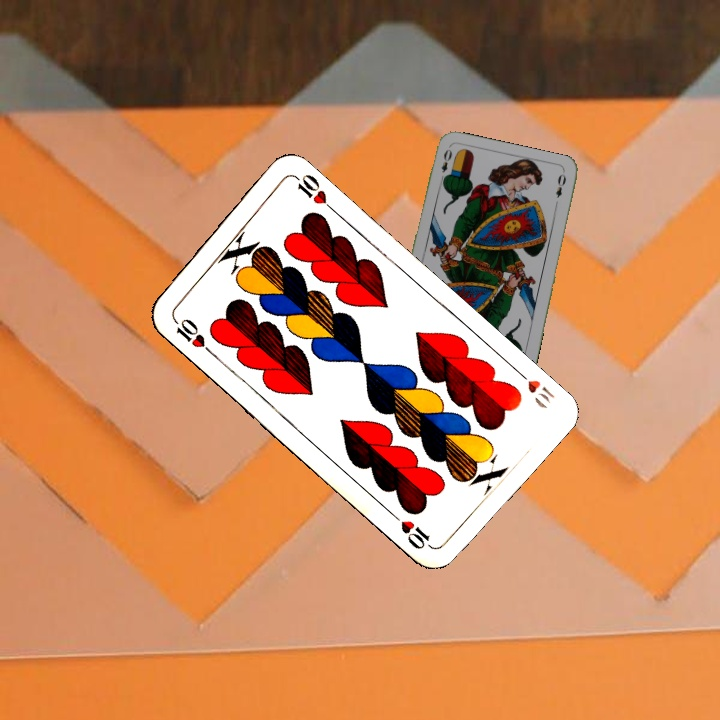EO: (436, 145, 455, 185)
H10: (510, 364, 556, 412), (168, 313, 216, 358)
